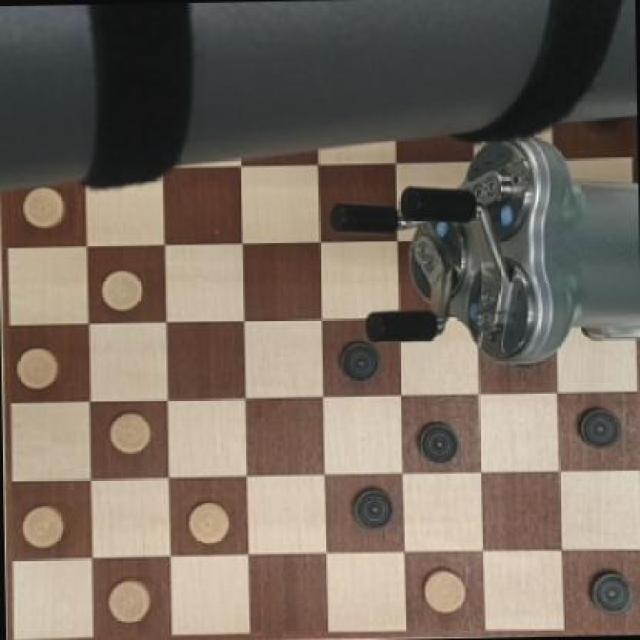black: (575, 558, 639, 618), (574, 398, 629, 454), (411, 414, 465, 469), (335, 334, 385, 390), (348, 483, 396, 536)
white: (102, 565, 155, 624), (94, 261, 148, 315), (15, 336, 66, 391), (102, 406, 157, 457), (417, 562, 469, 615), (17, 503, 71, 548), (13, 193, 67, 237), (184, 495, 229, 546)
